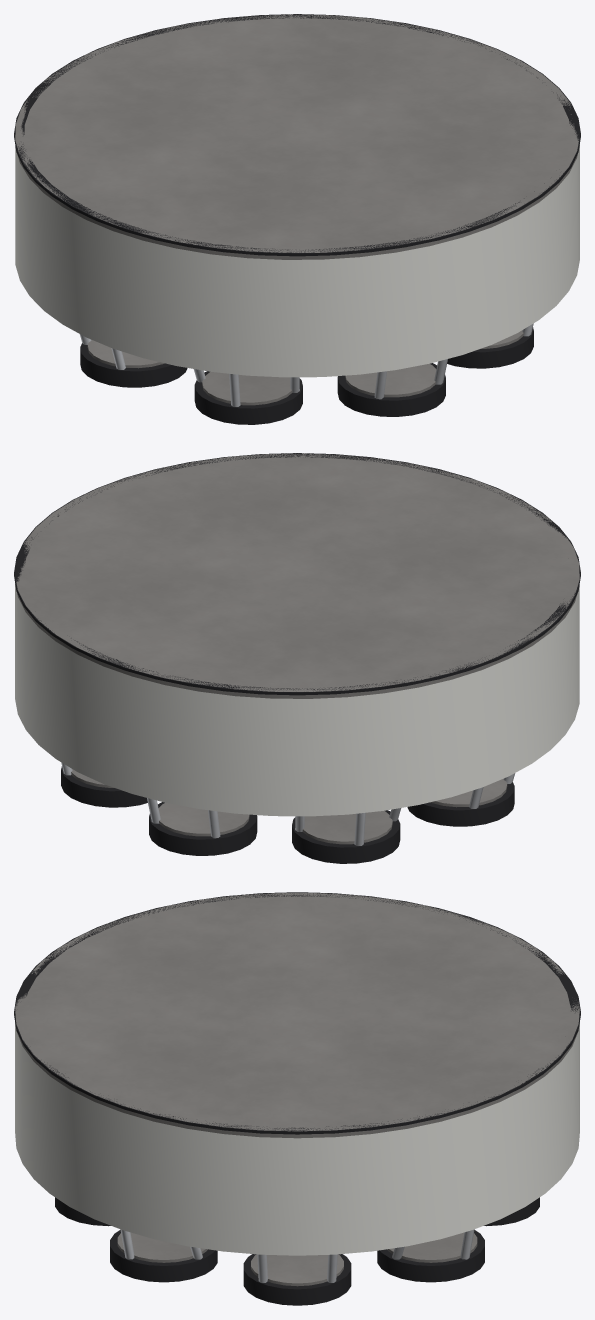
Rendered from stage12_multi_coupler_nine_l.glb.
3 views of the same model, one above another, from view 1: azimuth 30°, elevation 25°; view 2: azimuth 150°, elevation 25°; view 3: azimuth 270°, elevation 25° (orthographic).
Parts seen in each view (by area): view 1: thrust_plate, skirt, engine_mounts, top_flange, mount_plates, thrust_beams; view 2: thrust_plate, skirt, engine_mounts, top_flange, mount_plates, thrust_beams; view 3: thrust_plate, skirt, engine_mounts, top_flange, mount_plates, thrust_beams.
Part boxes in pixels (bbox=[...]): thrust_plate: bbox=[15, 14, 578, 259]; skirt: bbox=[15, 144, 579, 377]; engine_mounts: bbox=[80, 327, 533, 424]; top_flange: bbox=[14, 14, 580, 256]; mount_plates: bbox=[87, 330, 523, 405]; thrust_beams: bbox=[79, 323, 533, 406]; thrust_plate: bbox=[16, 453, 579, 698]; skirt: bbox=[15, 583, 579, 816]; engine_mounts: bbox=[61, 766, 514, 863]; top_flange: bbox=[14, 453, 580, 695]; mount_plates: bbox=[71, 769, 507, 844]; thrust_beams: bbox=[61, 762, 515, 845]; thrust_plate: bbox=[15, 893, 579, 1138]; skirt: bbox=[15, 1022, 579, 1255]; engine_mounts: bbox=[55, 1197, 539, 1305]; top_flange: bbox=[14, 892, 580, 1134]; mount_plates: bbox=[117, 1232, 477, 1286]; thrust_beams: bbox=[120, 1229, 474, 1282].
Bounding box in the file's own units: 3.76 × 1.4 × 3.76.
4 materials, 2 textured.
